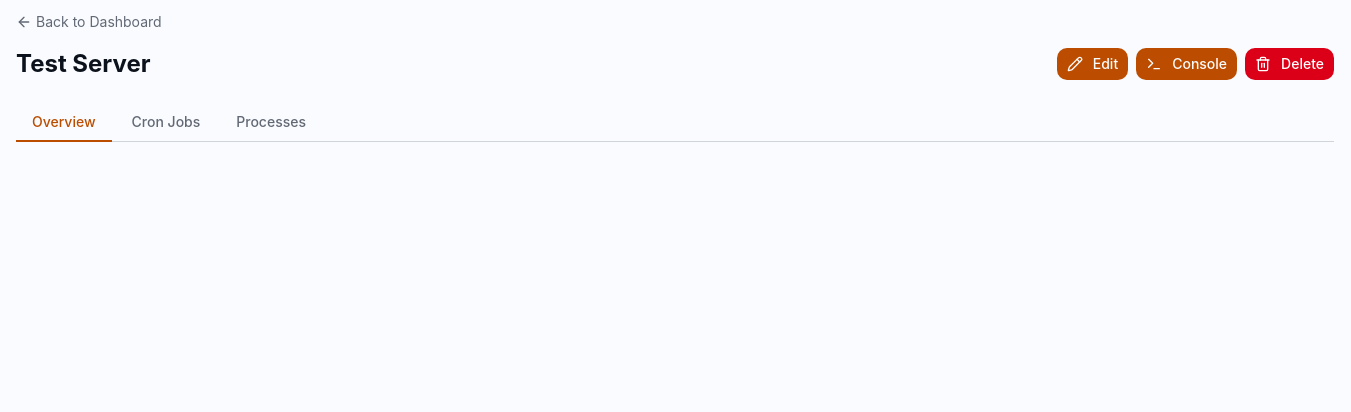
Scenario: ServerDetail — Processes tab › renders process rows when data is loaded
This screenshot has width=1351, height=412.
Click the tab "Processes" at [271, 123], box [220,104,322,142]
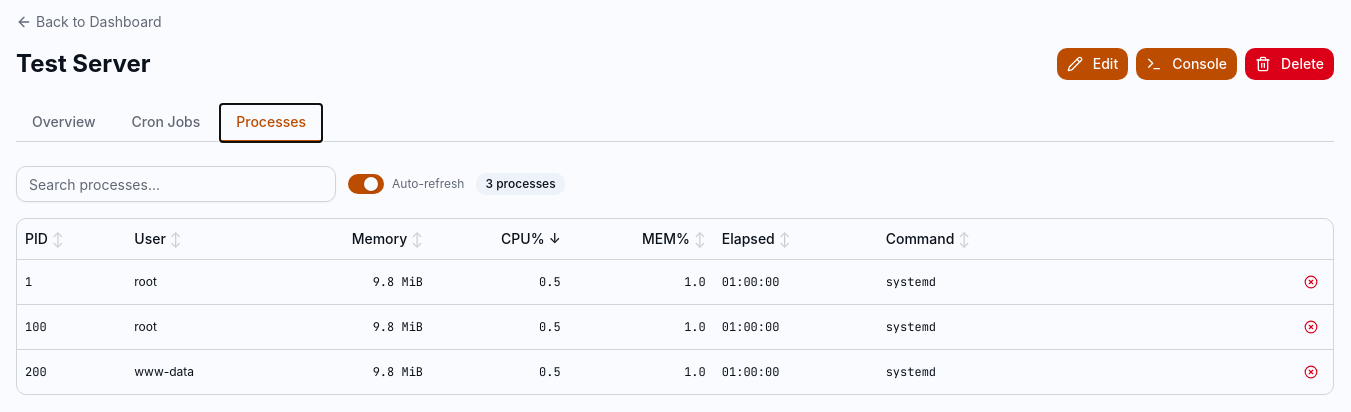
Check: the table with test id "process-table" is shown, box [17,219,1333,394]
Check: the row with test id "process-row-1" is shown, box [17,259,1333,304]
Check: the row with test id "process-row-100" is shown, box [17,304,1333,349]
